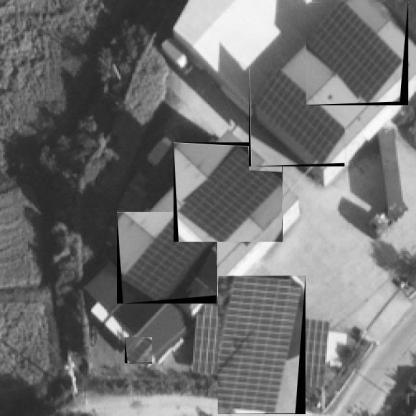solar-pv-panel: (218, 276, 305, 414), (177, 145, 282, 242), (306, 2, 405, 103), (250, 69, 344, 164), (121, 212, 216, 301), (127, 337, 152, 363)
